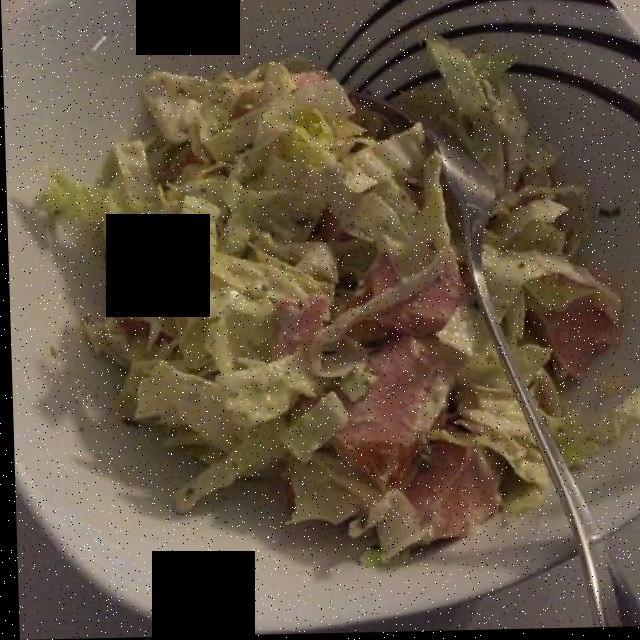salad: (48, 65, 541, 559)
